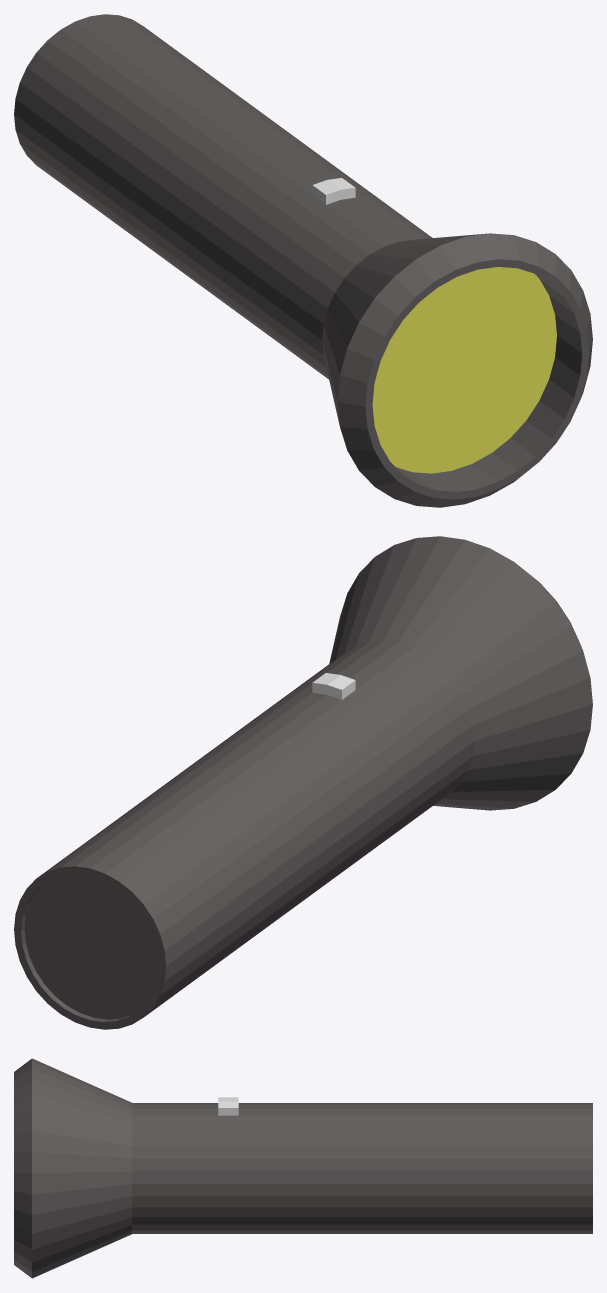
File: flash.gltf
The picture shows the model from 3 angles, top to bottom: view 1: azimuth 30°, elevation 25°; view 2: azimuth 150°, elevation 25°; view 3: azimuth 270°, elevation 25°; orthographic projection. The views are drawn at different scales.
Visible parts, largest first — view 1: Циліндр; view 2: Циліндр; view 3: Циліндр.
Part boxes in pixels (left/top/right/bottom): Циліндр: left=14, top=14, right=592, bottom=507; Циліндр: left=14, top=536, right=592, bottom=1029; Циліндр: left=14, top=1058, right=592, bottom=1278.
Bounding box in the file's own units: 1.41 × 1.41 × 3.71.
